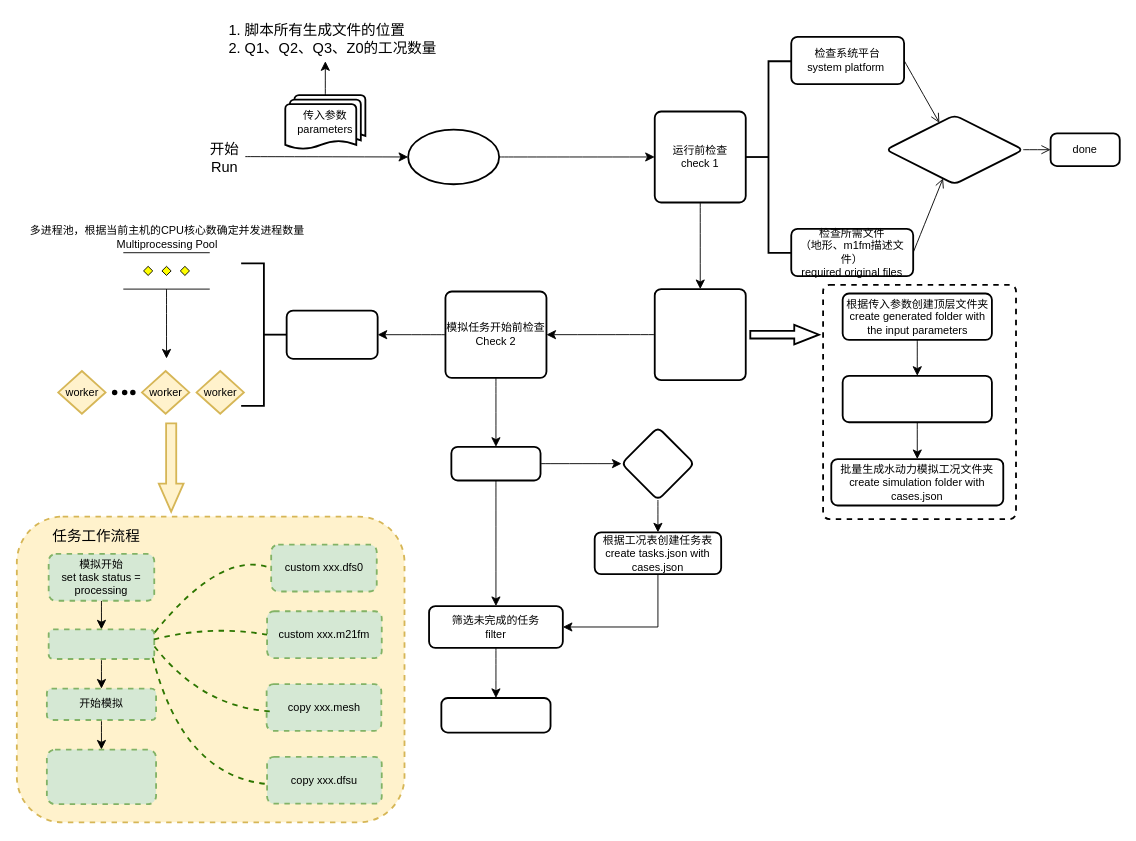
This 1136x841 diagram has some shape labels left out. The shapes that lost their labels are listed below. From the top down, each one's centre as x and y in pixels, then its label:
(x=453, y=156): 主入口 main
(x=954, y=149): 平台不支持 或 文件不存在
(x=331, y=334): start simulation
(x=699, y=334): 批量生成 batch generation
(x=916, y=398): 根据传入参数创建工况组合表 create cases.json with the input parameters
(x=495, y=463): 检查任务表 check tasks.json
(x=657, y=463): 不存在 not exist
(x=101, y=643): 模拟前准备工作
(x=495, y=715): 将要执行的任务列表 pending_tasks
(x=101, y=776): 模拟结束 set task status = completed
